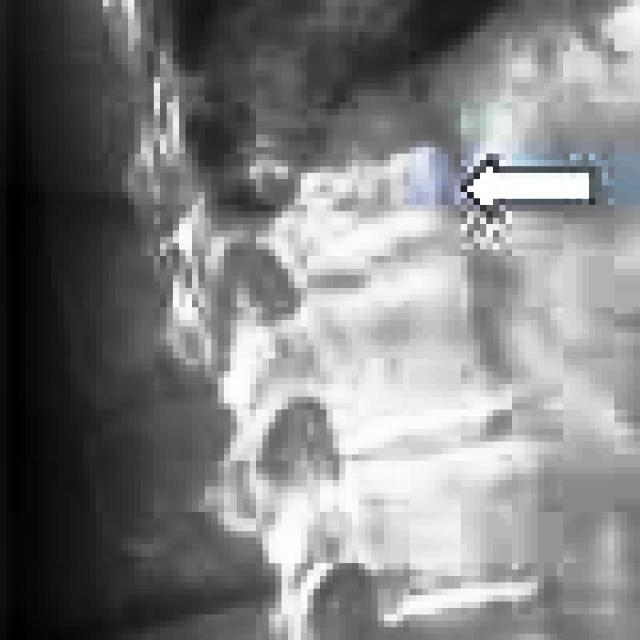Compression-Crush Fracutre: (269, 178, 429, 266)
